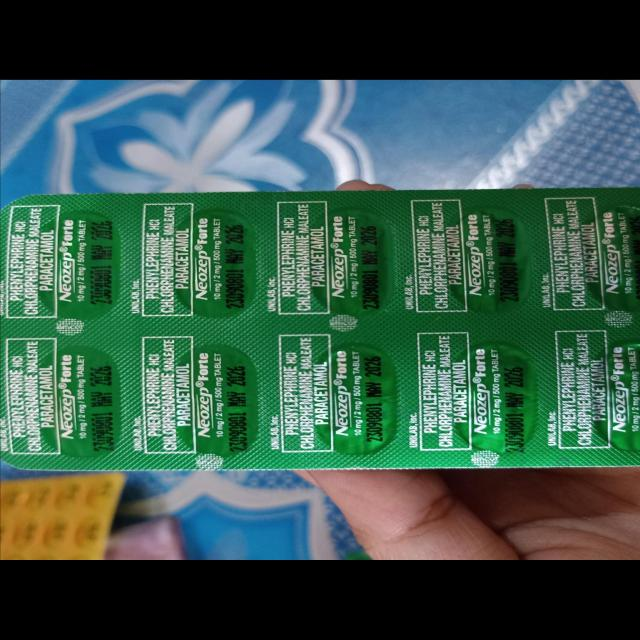Neozep_Strip: (0, 167, 640, 494)
